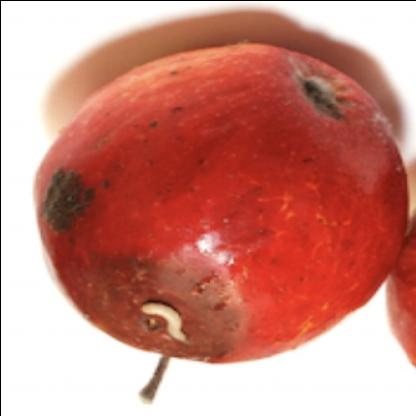Rotten Apple: (30, 43, 408, 364)
